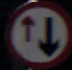Two way: (18, 9, 67, 60)
